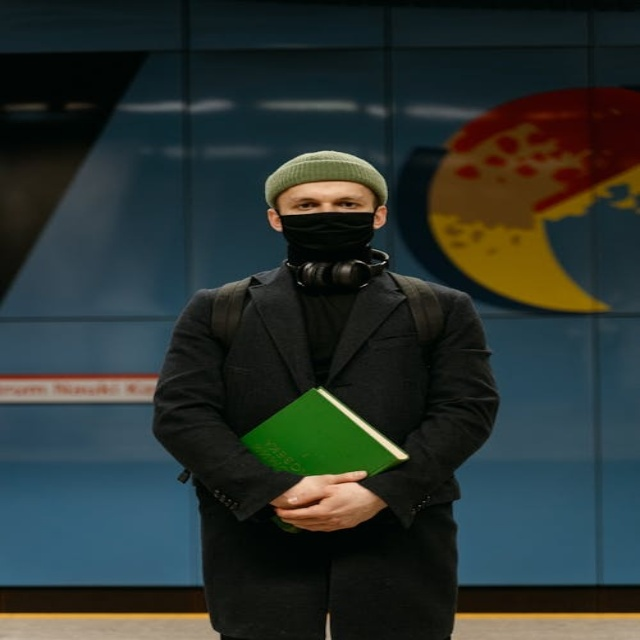Mascara: (279, 211, 377, 256)
Sin_gafas: (295, 202, 319, 210), (336, 201, 360, 209)
Sin_guantes: (270, 471, 383, 532)
